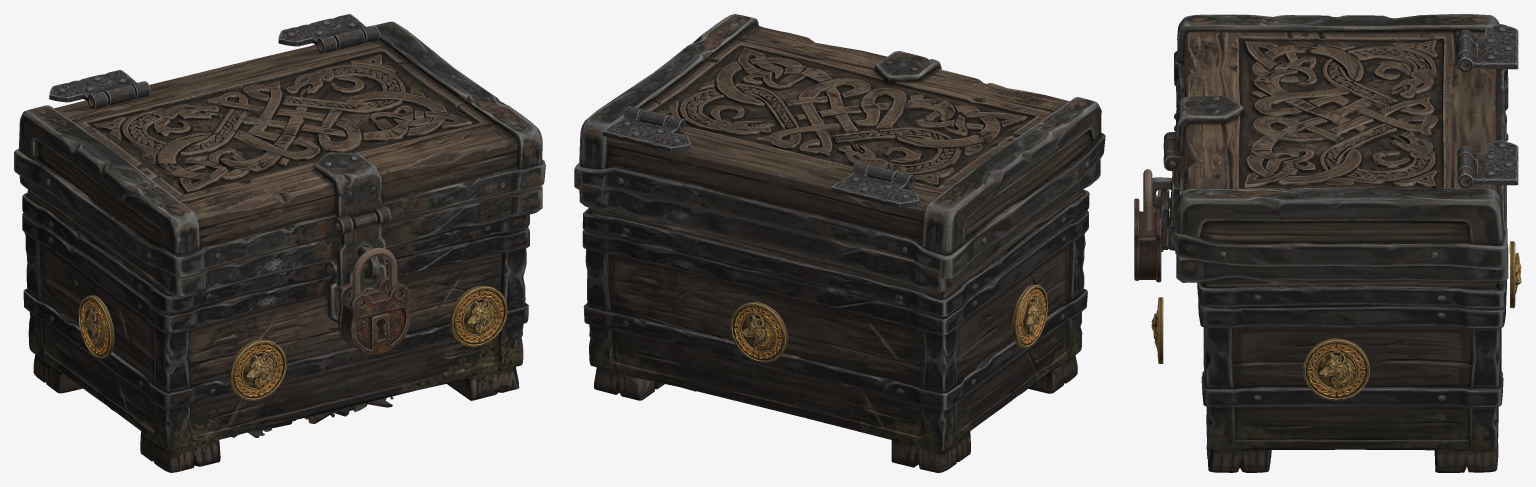
File: stash_chest.glb
3 renders of one model, left to right at view 1: azimuth 30°, elevation 25°; view 2: azimuth 150°, elevation 25°; view 3: azimuth 270°, elevation 25°, orthographic. The views are drawn at different scales.
Parts seen in each view (by area): view 1: lid, body, lock_body, seal_0, seal_1, seal_2, shackle, coals; view 2: lid, body, seal_4, seal_2; view 3: lid, body, seal_3, lock_body, shackle, seal_1, seal_4.
Boxes of the visible parts, x1,y1,x2,y2 form: lid: (14,14,545,298); body: (22,190,529,472); lock_body: (338,276,410,354); seal_0: (229,339,286,400); seal_1: (450,285,507,346); seal_2: (78,295,114,358); shackle: (352,247,397,297); coals: (231,396,393,437); lid: (574,14,1105,292); body: (582,189,1089,472); seal_4: (730,301,787,362); seal_2: (1012,284,1047,347); lid: (1152,14,1518,283); body: (1168,112,1508,472); seal_3: (1303,338,1369,400); lock_body: (1134,196,1161,282); shackle: (1143,169,1152,231); seal_1: (1151,297,1163,363); seal_4: (1509,241,1521,308).
Bounding box in the file's own units: 1.4 × 0.951 × 1.16.
Materials: 8 (6 with a texture image).
